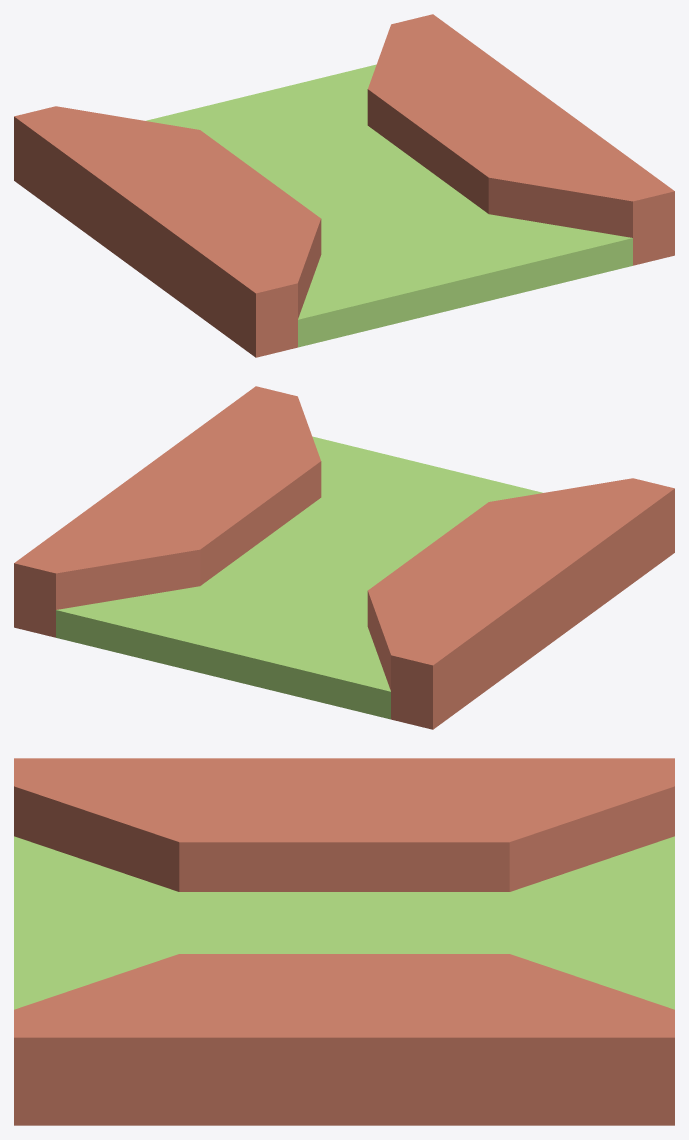
The model's file is Narrow_square_01.glb.
The picture shows the model from 3 angles, top to bottom: view 1: azimuth 30°, elevation 25°; view 2: azimuth 150°, elevation 25°; view 3: azimuth 270°, elevation 25°; orthographic projection. The views are drawn at different scales.
Parts seen in each view (by area): view 1: Mesh1 Narrow_square Model; view 2: Mesh1 Narrow_square Model; view 3: Mesh1 Narrow_square Model.
Part boxes in pixels (left/top/right/bottom): Mesh1 Narrow_square Model: left=14, top=14, right=674, bottom=357; Mesh1 Narrow_square Model: left=14, top=386, right=674, bottom=729; Mesh1 Narrow_square Model: left=14, top=758, right=674, bottom=1125.
Size of the model in its own units: 3 by 0.44 by 3.
